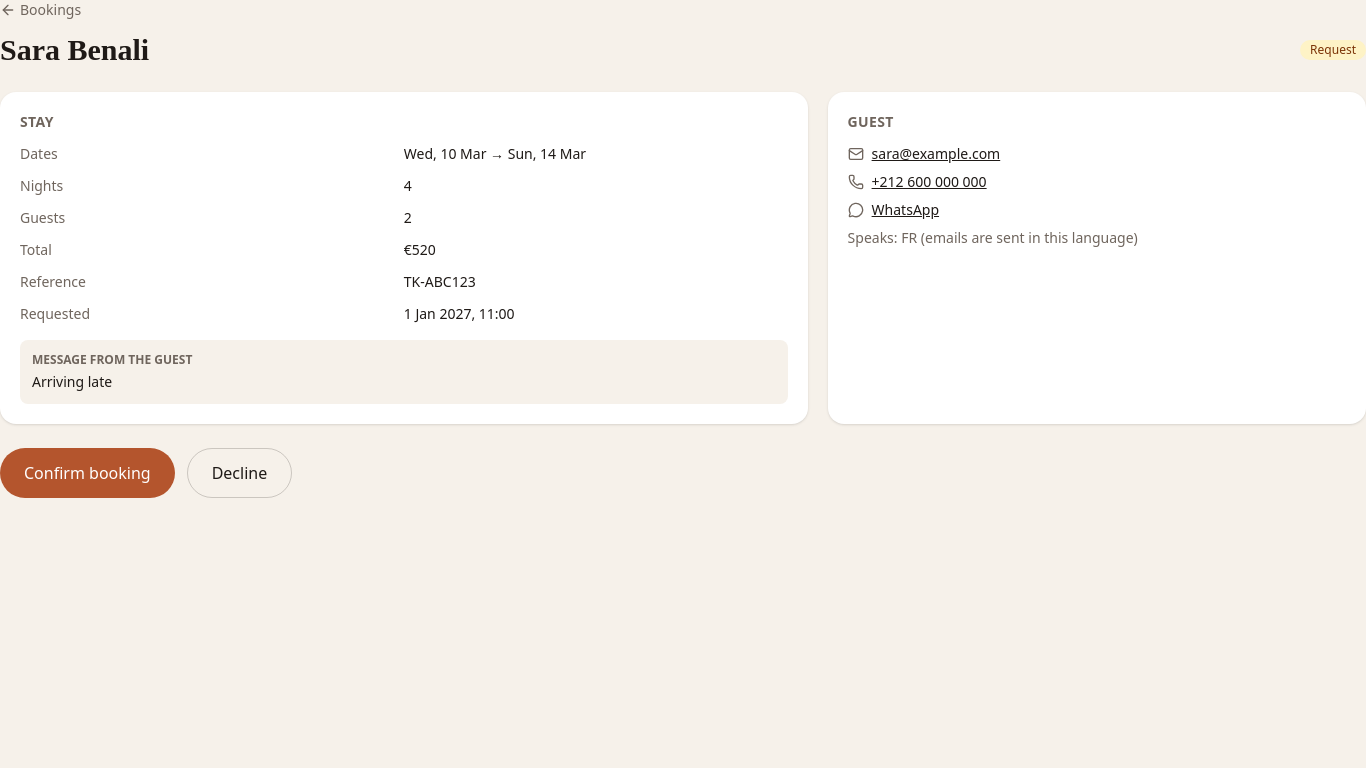
Test: BookingDetailView › shows which platform reservation blocks a confirmation (409)
Click the button "Confirm booking".
click(87, 473)  # box [0,448,175,498]
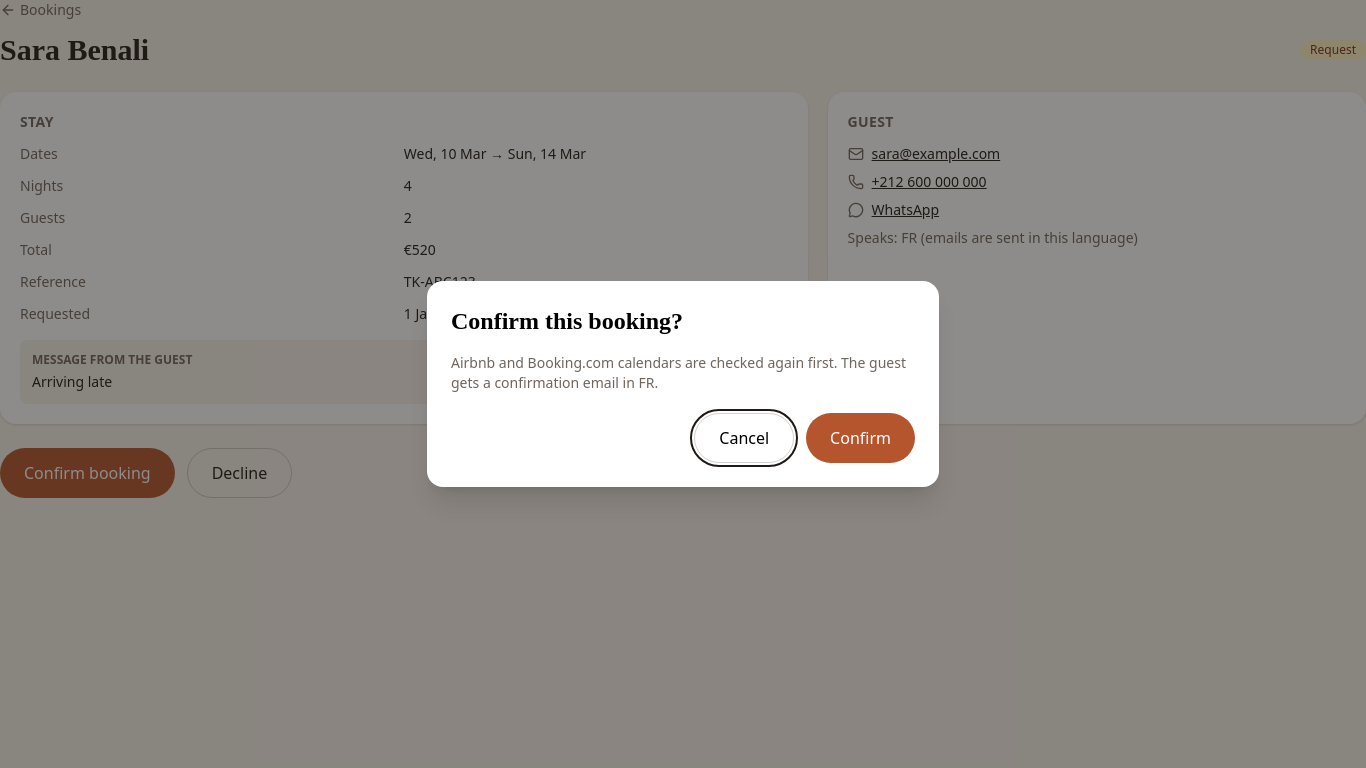
Click the button "Confirm".
click(861, 438)  # box [806,413,915,463]
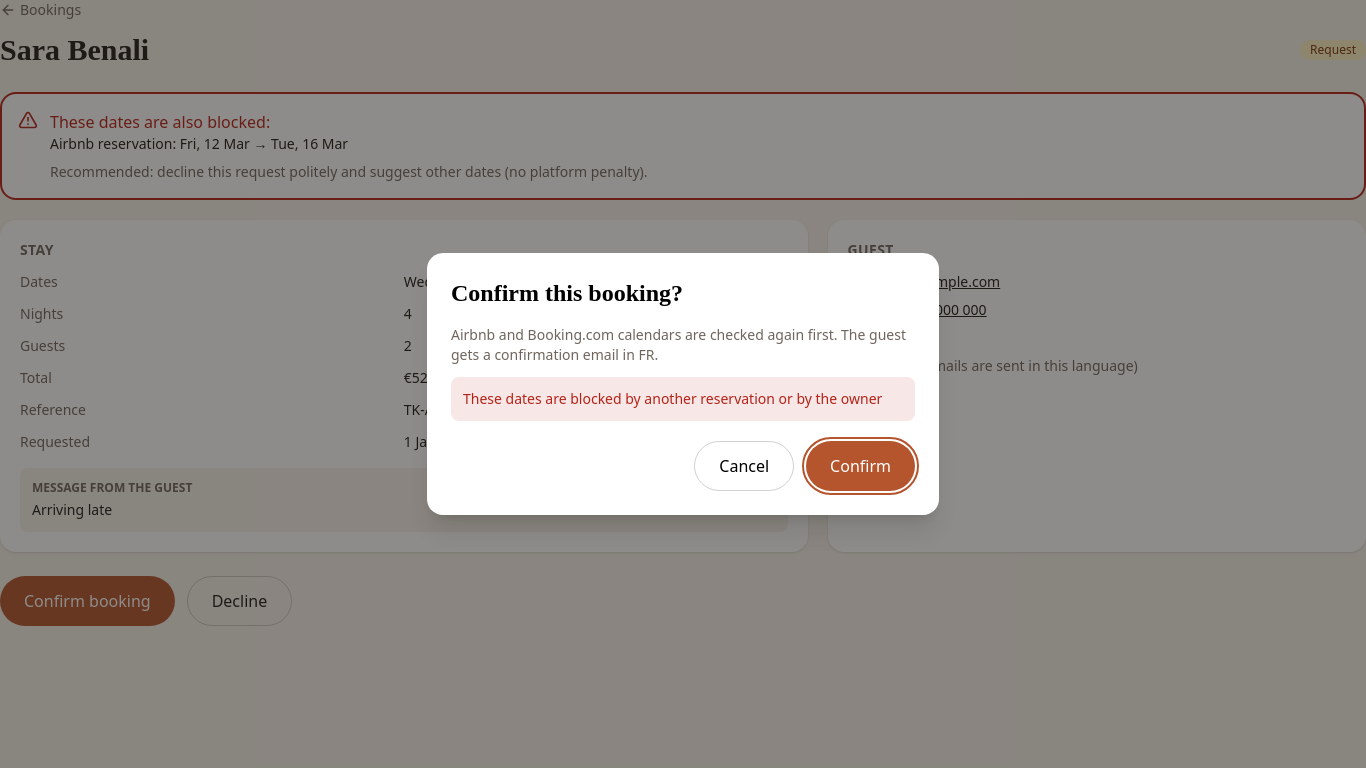
Check: the list item "Airbnb reservation: Fri, 12 Mar → Tue, 16 Mar" is shown, box [50,134,348,153]
Check: the text "decline this request politely" is shown, box [50,162,648,181]
